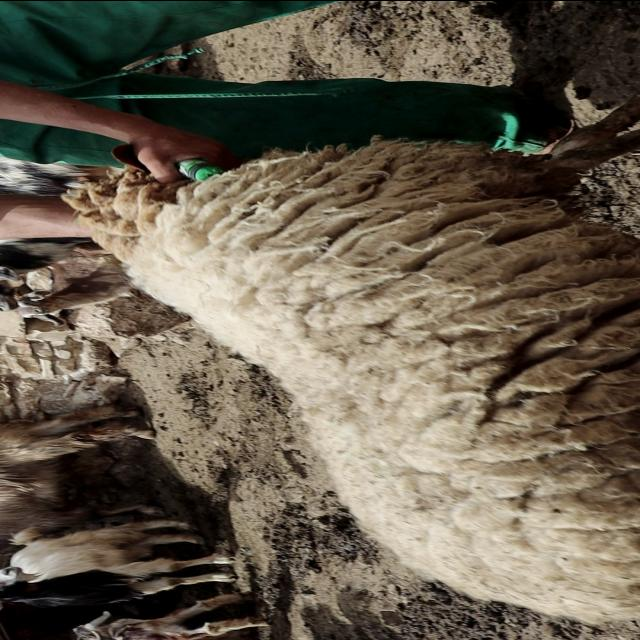Score_2: (64, 96, 639, 623)
